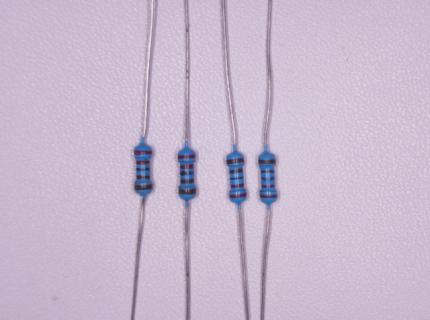Black band: (180, 171, 194, 176), (136, 167, 150, 172), (230, 176, 244, 180), (262, 176, 274, 180)
Brown band: (134, 184, 152, 191), (178, 188, 196, 195), (226, 158, 244, 164), (258, 159, 276, 164), (137, 174, 150, 180), (230, 168, 243, 174), (180, 179, 194, 184), (261, 169, 275, 173)
Red band: (229, 192, 247, 198), (134, 150, 152, 155), (178, 154, 196, 159), (180, 164, 195, 169), (136, 160, 150, 165), (260, 194, 277, 198), (231, 183, 244, 188), (262, 184, 275, 188)
